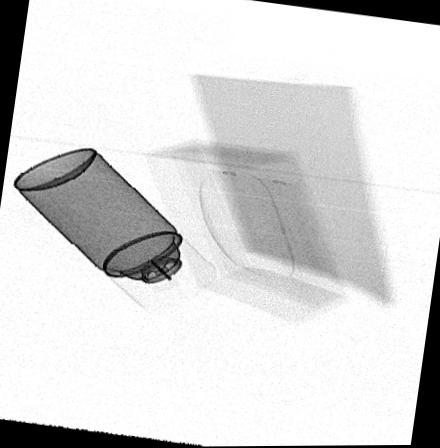Sprayer: (14, 149, 215, 311)
